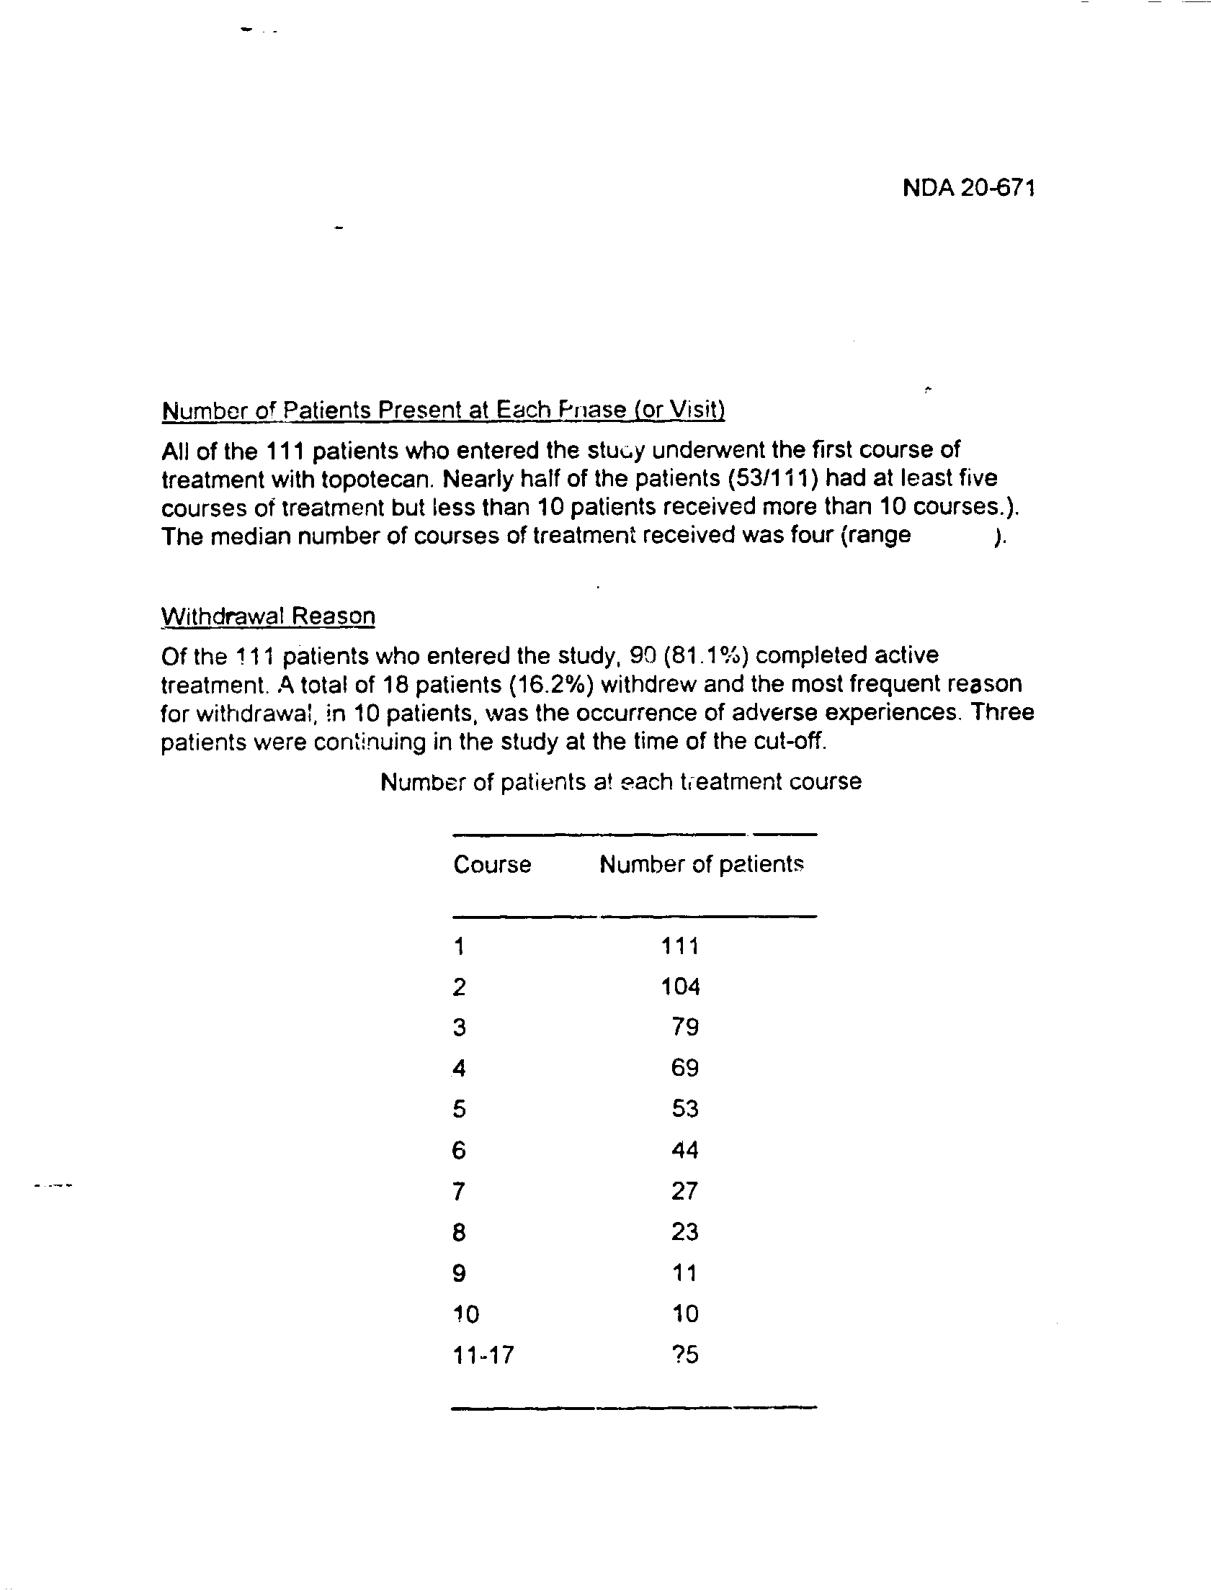partial_lined: (450, 831, 822, 1412)
